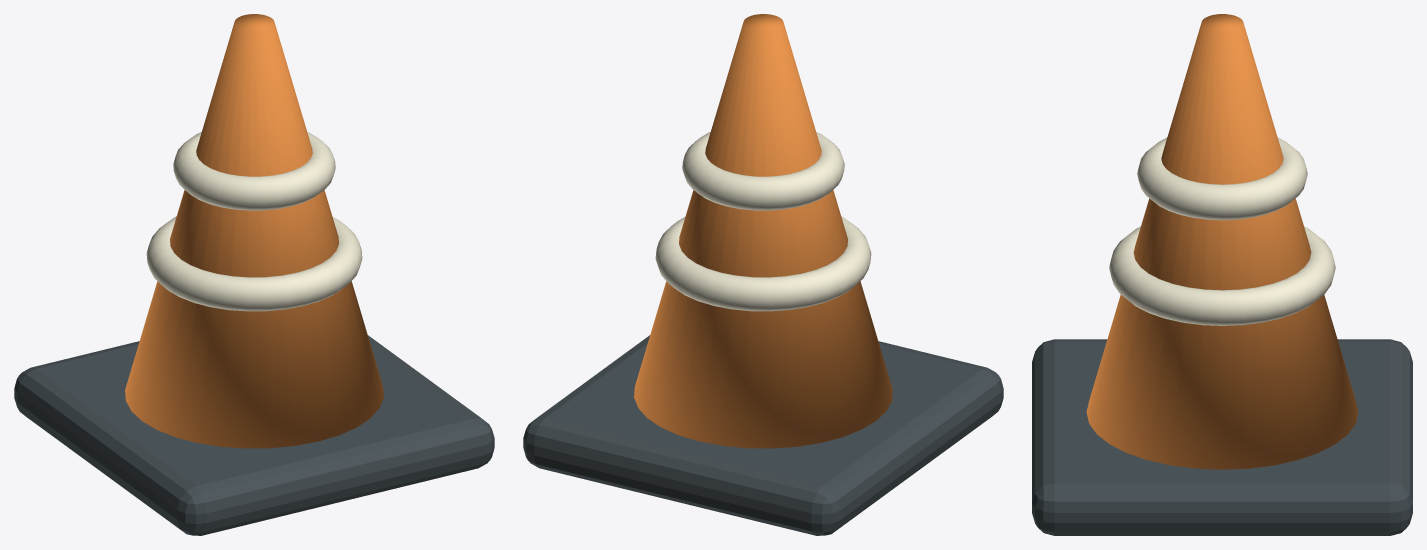
3 renders of one model, left to right at view 1: azimuth 30°, elevation 25°; view 2: azimuth 150°, elevation 25°; view 3: azimuth 270°, elevation 25°, orthographic. The views are drawn at different scales.
Visible parts, largest first — view 1: cone_textured_mesh; view 2: cone_textured_mesh; view 3: cone_textured_mesh.
Boxes of the visible parts, bbox=[...] form: cone_textured_mesh: bbox=[14, 14, 494, 535]; cone_textured_mesh: bbox=[523, 14, 1003, 535]; cone_textured_mesh: bbox=[1032, 14, 1412, 535].
Size of the model in its own units: 1.36 by 1.73 by 1.36.
Materials: 1 (1 with a texture image).
